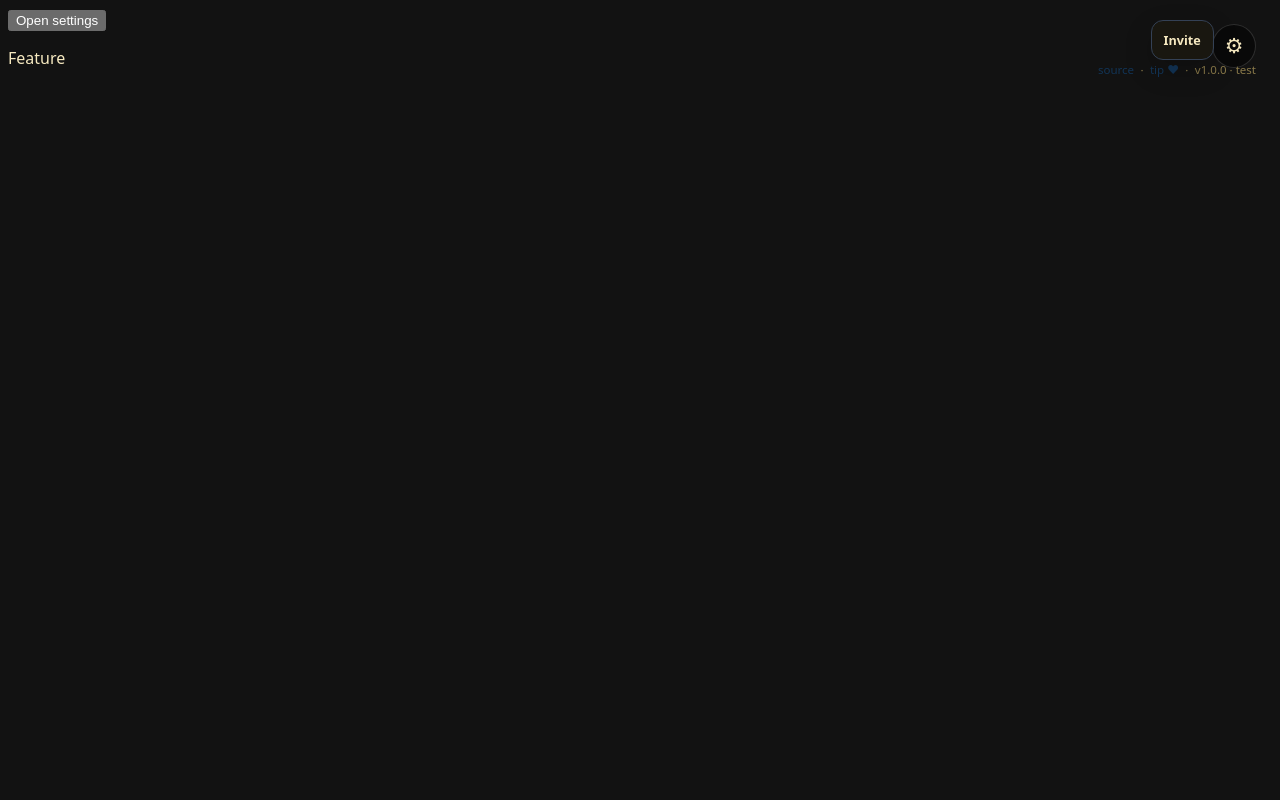
MeshShell foundation bridge › keeps the shell settings FAB distinct from an app-local Open settings control
This screenshot has width=1280, height=800.
Click the button named "Open settings" at (1234, 46), box [1212,24,1256,68]
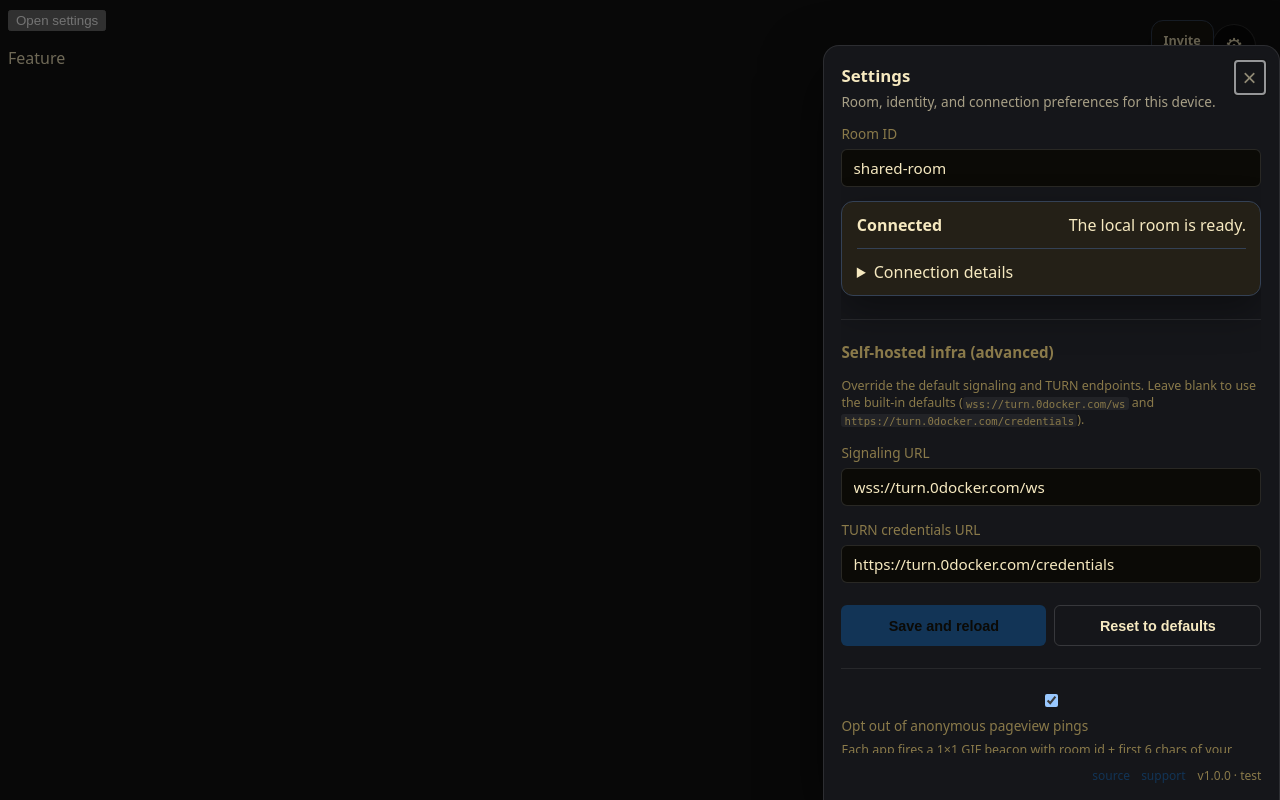
Expected: the dialog "Settings" is shown, [823,45,1279,799]
